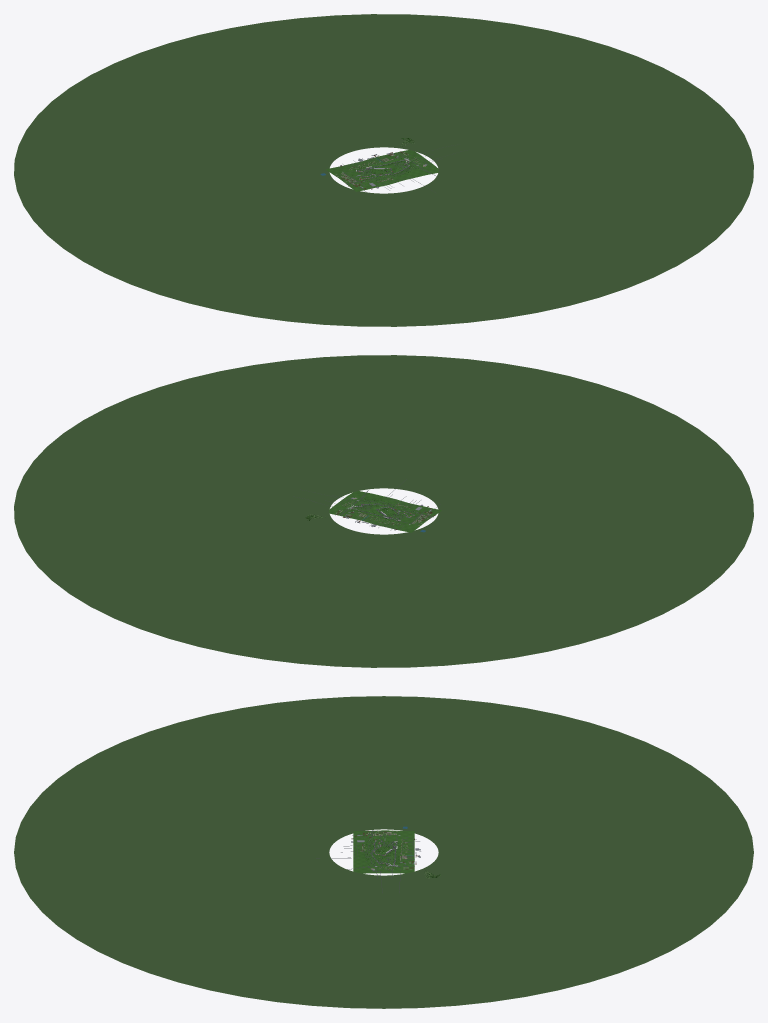
Rendered from miami.glb.
3 renders of one model, top to bottom at view 1: azimuth 30°, elevation 25°; view 2: azimuth 150°, elevation 25°; view 3: azimuth 270°, elevation 25°, orthographic.
Parts seen in each view (by area): view 1: RL_Circuit; view 2: RL_Circuit; view 3: RL_Circuit.
Boxes of the visible parts, x1,y1,x2,y2 form: RL_Circuit: [14, 14, 753, 326]; RL_Circuit: [14, 355, 753, 667]; RL_Circuit: [14, 696, 753, 1008].
Bounding box in the file's own units: 18000 × 58.1 × 18000.
92 materials, 63 textured.
